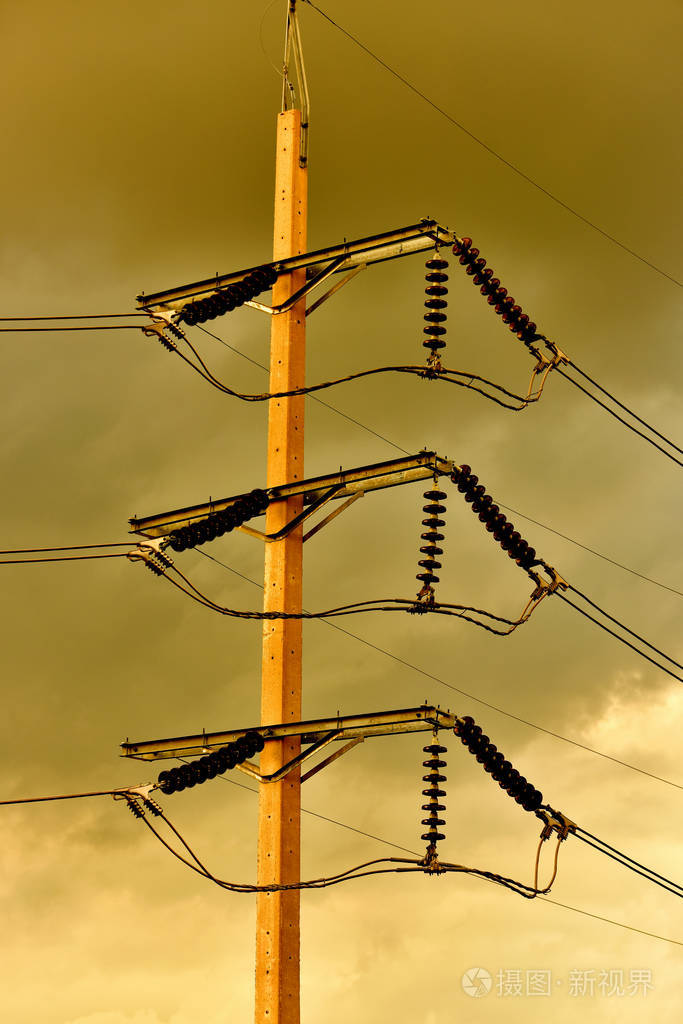insulator: (455, 231, 542, 342), (451, 461, 538, 567), (451, 718, 547, 813), (159, 726, 267, 795), (172, 486, 269, 555), (181, 264, 277, 325), (417, 741, 452, 842), (414, 487, 448, 584), (418, 255, 451, 354)
